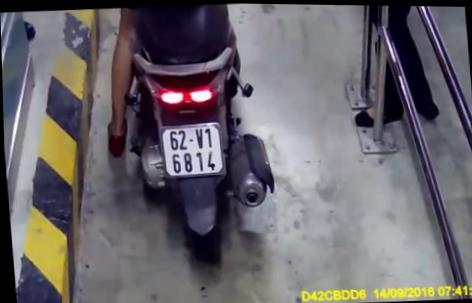LP: (157, 121, 226, 179)
